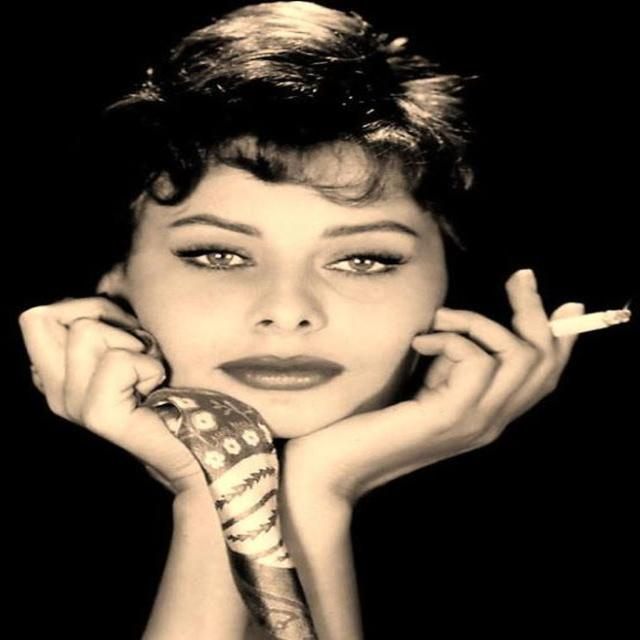smoking: (105, 49, 640, 435)
